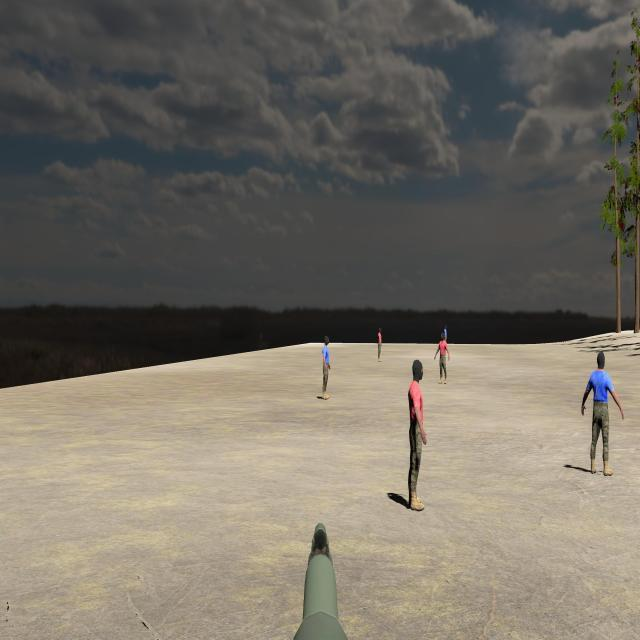Human: (582, 352, 623, 477), (408, 360, 427, 511), (434, 331, 450, 385), (322, 336, 331, 399)
